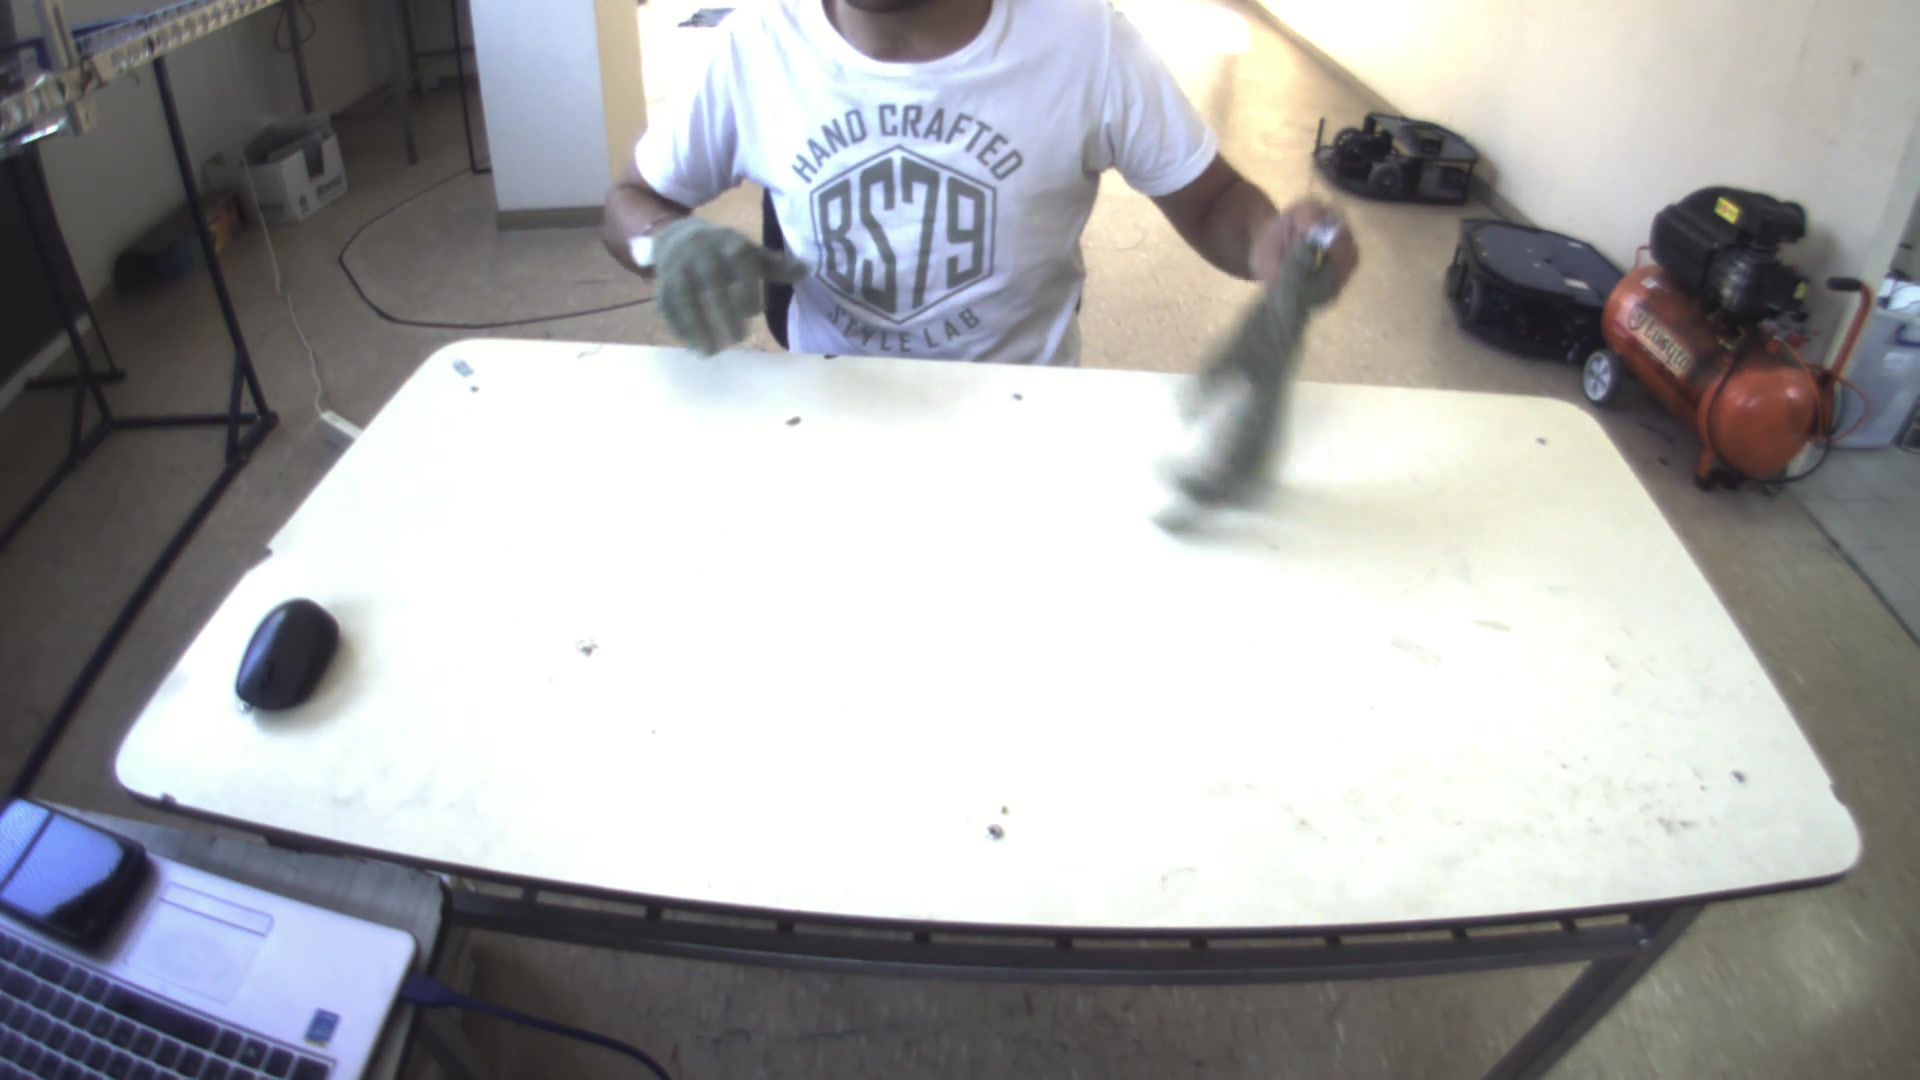hand: (636, 208, 803, 355), (1257, 193, 1352, 305)
